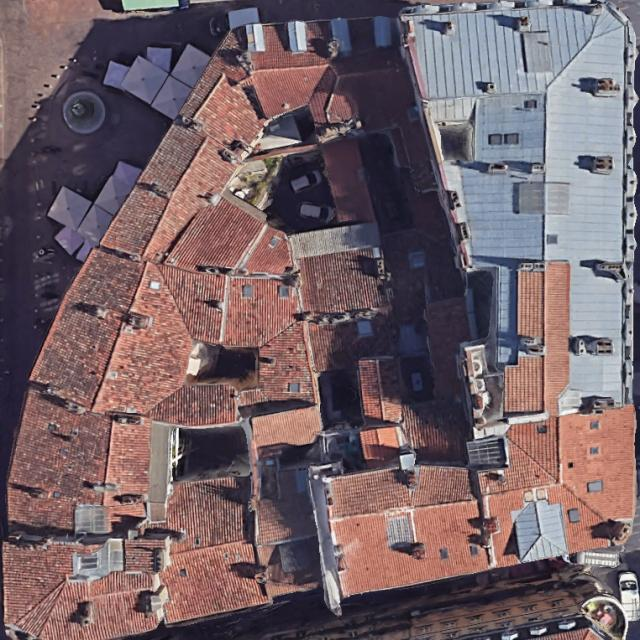immeuble: (394, 7, 640, 573), (275, 118, 514, 477), (139, 178, 329, 369), (24, 240, 208, 429), (305, 438, 495, 608), (3, 387, 184, 546), (235, 4, 421, 151), (103, 115, 247, 281), (147, 471, 272, 620), (0, 534, 162, 640), (225, 322, 325, 471), (173, 29, 288, 155), (255, 454, 326, 595), (146, 378, 235, 422)
